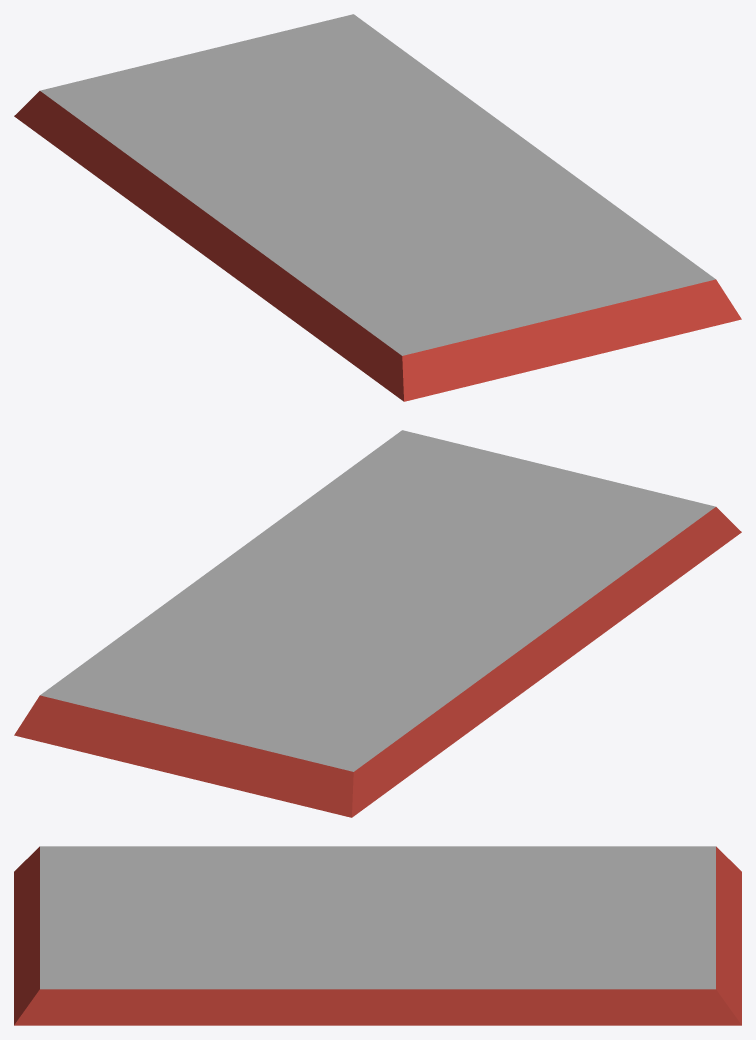
File: Platform.fbx
The picture shows the model from 3 angles, top to bottom: view 1: azimuth 30°, elevation 25°; view 2: azimuth 150°, elevation 25°; view 3: azimuth 270°, elevation 25°; orthographic projection. The views are drawn at different scales.
Visible parts, largest first — view 1: pCube2; view 2: pCube2; view 3: pCube2.
Part boxes in pixels (box(x1,y1,x2,y2)): pCube2: box(14, 14, 741, 401); pCube2: box(14, 430, 741, 817); pCube2: box(14, 846, 741, 1025).
Bounding box in the file's own units: 215 × 20 × 431.
